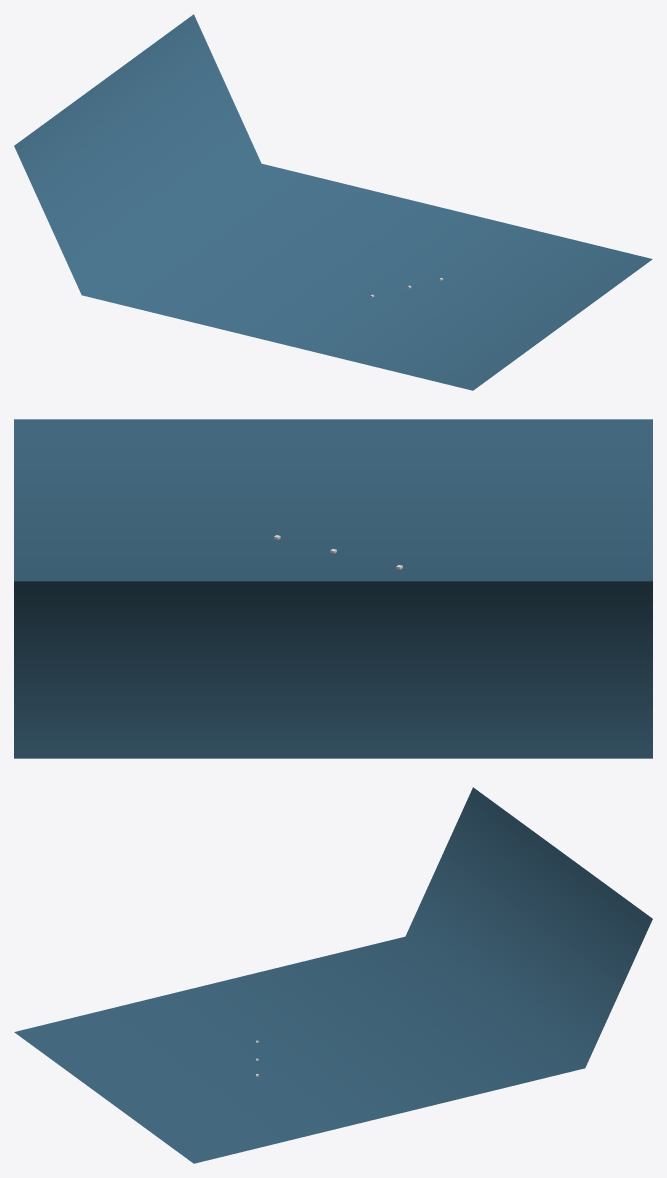
File: blender.glb
3 views of the same model, one above another, from view 1: azimuth 30°, elevation 25°; view 2: azimuth 150°, elevation 25°; view 3: azimuth 270°, elevation 25° (orthographic). The views are drawn at different scales.
Parts seen in each view (by area): view 1: Background; view 2: Background; view 3: Background.
Part boxes in pixels (x1,y1,x2,y2): Background: (14, 14, 652, 390); Background: (14, 419, 652, 758); Background: (14, 787, 652, 1163).
Bounding box in the file's own units: 414 × 106 × 458.
